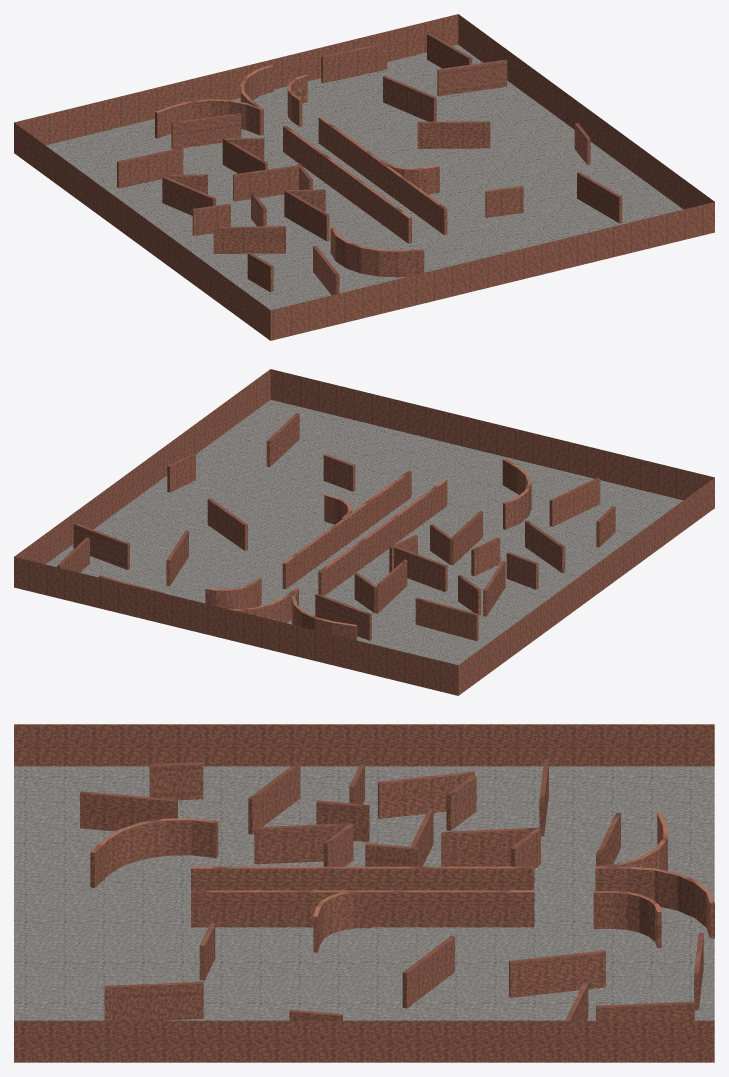
Rendered from Experimentation.fbx.
The picture shows the model from 3 angles, top to bottom: view 1: azimuth 30°, elevation 25°; view 2: azimuth 150°, elevation 25°; view 3: azimuth 270°, elevation 25°; orthographic projection. The views are drawn at different scales.
Parts seen in each view (by area): view 1: Experimentation; view 2: Experimentation; view 3: Experimentation.
Part boxes in pixels (x1=…): Experimentation: x1=14, y1=14, x2=714, y2=340; Experimentation: x1=14, y1=369, x2=714, y2=695; Experimentation: x1=14, y1=724, x2=714, y2=1062.
Bounding box in the file's own units: 143 × 9.66 × 143.
2 materials, 2 textured.
